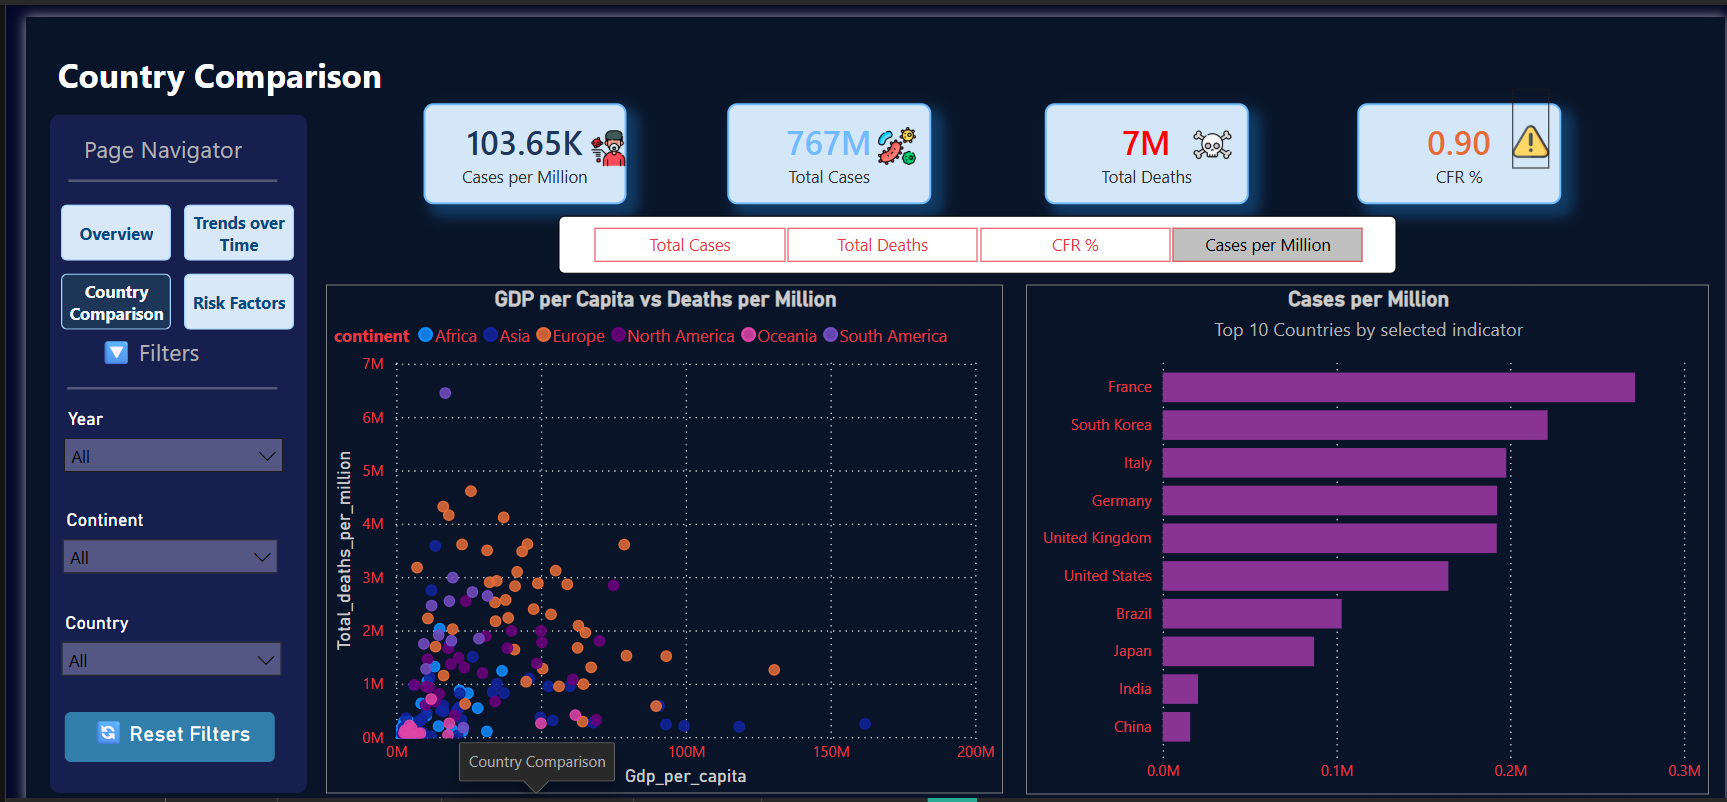

The dashboard page shown, as its layout file describes it:
{"tool":"powerbi","page":{"name":"Country Comparison","canvas":[1360,610],"ordinal":2},"visuals":[{"type":"barChart","fields":{"Y":["_Measures.Total Deaths"],"Category":["Covid_Global.location"]},"box":[800,194,546,408],"z":0},{"type":"scatterChart","title":" GDP per Capita vs Deaths per Million","fields":{"X":["Sum(Covid_Global.gdp_per_capita)"],"Y":["Sum(Covid_Global.total_deaths_per_million)"],"Category":["Covid_Global.location"],"Series":["Covid_Global.continent"]},"box":[240,194,541,407],"z":1000},{"type":"shape","box":[19,58,206,543],"z":5000},{"type":"cardVisual","fields":{"Data":["_Measures.Total Cases"]},"box":[561.2,48.8,162.5,81.2],"z":6000},{"type":"cardVisual","fields":{"Data":["_Measures.CFR %"]},"box":[1065,48.8,162.5,81.2],"z":7000},{"type":"cardVisual","fields":{"Data":["_Measures.Total Deaths"]},"box":[815,48.8,162.5,81.2],"z":8000},{"type":"cardVisual","fields":{"Data":["_Measures.Cases per Million"]},"box":[317.5,48.8,162.5,81.2],"z":9000},{"type":"image","box":[680,67.5,32.5,30],"z":10000},{"type":"image","box":[1188.8,57.5,28.8,43.8],"z":11000},{"type":"image","box":[933.8,61.2,30,41.2],"z":12000},{"type":"image","box":[451.2,68.8,28.8,32.5],"z":13000},{"type":"slicer","fields":{"Values":["Covid_Global.date.Variation.Date Hierarchy.Year"]},"box":[20,287.5,195,63.8],"z":14000},{"type":"slicer","fields":{"Values":["Covid_Global.location"]},"box":[17.5,451.2,196.2,61.2],"z":15000},{"type":"slicer","fields":{"Values":["Covid_Global.continent"]},"box":[18.8,368.8,192.5,62.5],"z":16000},{"type":"pageNavigator","box":[28,130,187,100],"z":17000},{"type":"slicer","fields":{"Values":["Metric Selector.Metric Selector"]},"box":[426.2,138.8,670,46.2],"z":18000},{"type":"textbox","box":[20,3,321,55],"z":19000},{"type":"textbox","box":[53.8,230,98.8,35],"z":20000},{"type":"shape","box":[23.8,77.5,183.8,46.2],"z":21000},{"type":"shape","box":[33.8,82.5,167.5,56.2],"z":22000},{"type":"shape","box":[32.5,248.8,168.8,56.2],"z":23000},{"type":"actionButton","title":"🔄 Reset Filters","box":[31.2,536.2,167.5,40],"z":24000},{"type":"textbox","box":[41.2,67.5,158.8,37.5],"z":25000}]}

Visuals, with their boxes on the page's 1360x610 design canvas (x1, y1, x2, y2). These are canvas units, not pixel positions in the 1727x802 screenshot, which may show the page scaled, cropped or inside an application window:
barChart - _Measures.Total Deaths x Covid_Global.location: <region>800, 194, 1346, 602</region>
" GDP per Capita vs Deaths per Million" scatterChart: <region>240, 194, 781, 601</region>
shape: <region>19, 58, 225, 601</region>
cardVisual - _Measures.Total Cases: <region>561, 49, 724, 130</region>
cardVisual - _Measures.CFR %: <region>1065, 49, 1228, 130</region>
cardVisual - _Measures.Total Deaths: <region>815, 49, 978, 130</region>
cardVisual - _Measures.Cases per Million: <region>318, 49, 480, 130</region>
image: <region>680, 68, 712, 98</region>
image: <region>1189, 58, 1218, 101</region>
image: <region>934, 61, 964, 102</region>
image: <region>451, 69, 480, 101</region>
slicer - Covid_Global.date.Variation.Date Hierarchy.Year: <region>20, 288, 215, 351</region>
slicer - Covid_Global.location: <region>18, 451, 214, 512</region>
slicer - Covid_Global.continent: <region>19, 369, 211, 431</region>
pageNavigator: <region>28, 130, 215, 230</region>
slicer - Metric Selector.Metric Selector: <region>426, 139, 1096, 185</region>
textbox: <region>20, 3, 341, 58</region>
textbox: <region>54, 230, 153, 265</region>
shape: <region>24, 78, 208, 124</region>
shape: <region>34, 82, 201, 139</region>
shape: <region>32, 249, 201, 305</region>
"🔄 Reset Filters" actionButton: <region>31, 536, 199, 576</region>
textbox: <region>41, 68, 200, 105</region>
